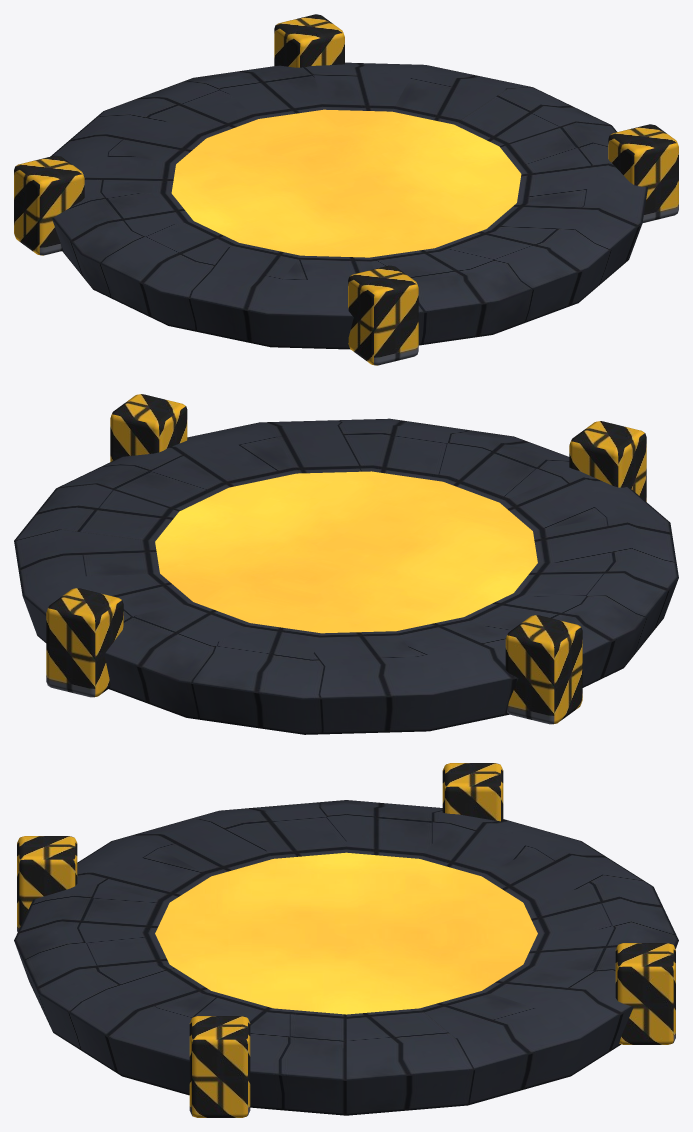
The model's file is sf_lavapool.glb.
3 renders of one model, top to bottom at view 1: azimuth 30°, elevation 25°; view 2: azimuth 150°, elevation 25°; view 3: azimuth 270°, elevation 25°, orthographic. The views are drawn at different scales.
Visible parts, largest first — view 1: Base; view 2: Base; view 3: Base.
Boxes of the visible parts, <box> form: Base: <box>14,14,678,365</box>; Base: <box>14,394,678,734</box>; Base: <box>14,763,678,1117</box>.
Size of the model in its own units: 0.88 by 0.12 by 0.88.
3 materials, 3 textured.
